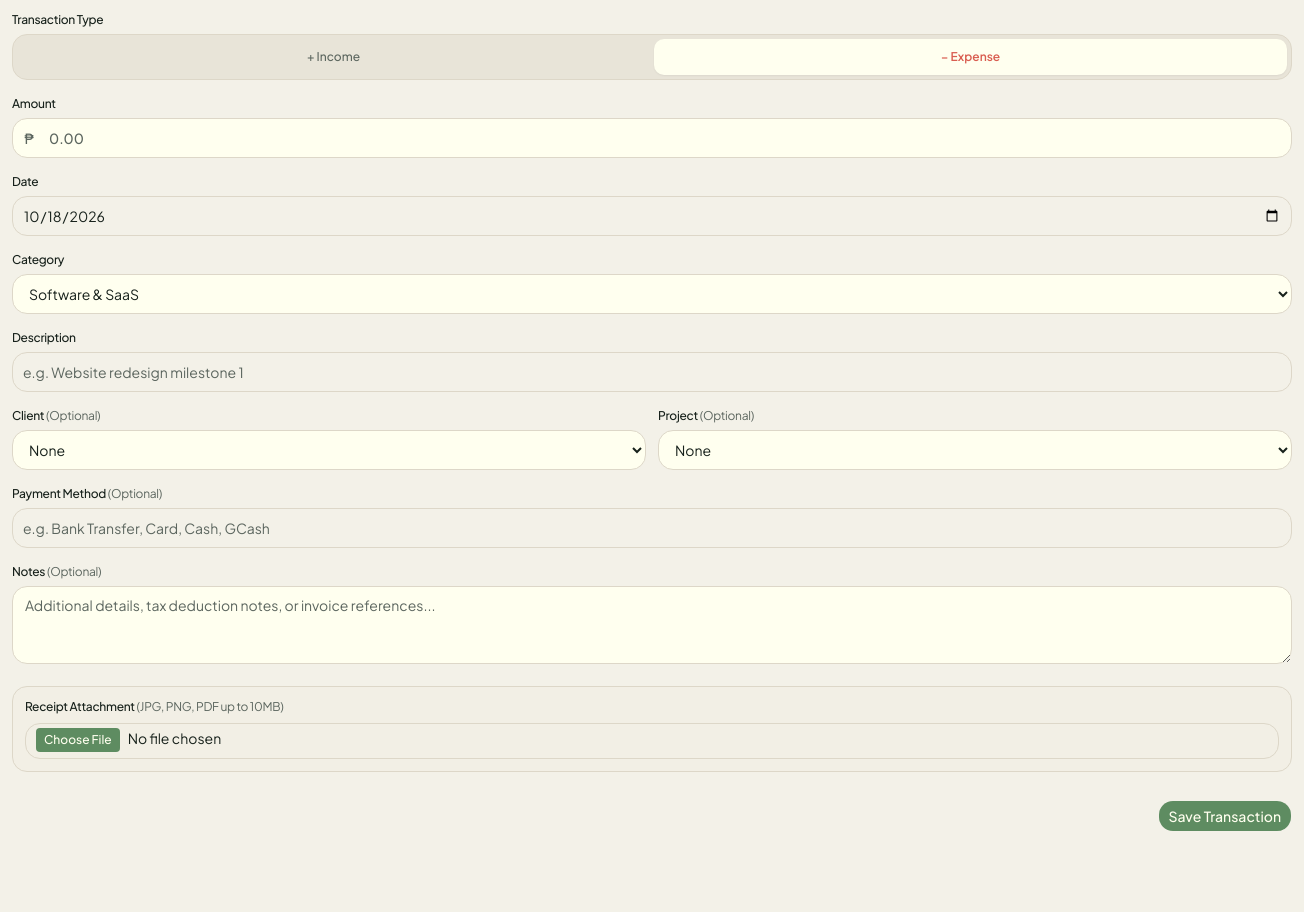
Test case: TransactionForm Component › shows validation error when submitting with 0 or missing amount
Click the button "Save Transaction" at (1225, 816), box [1158,800,1292,832]
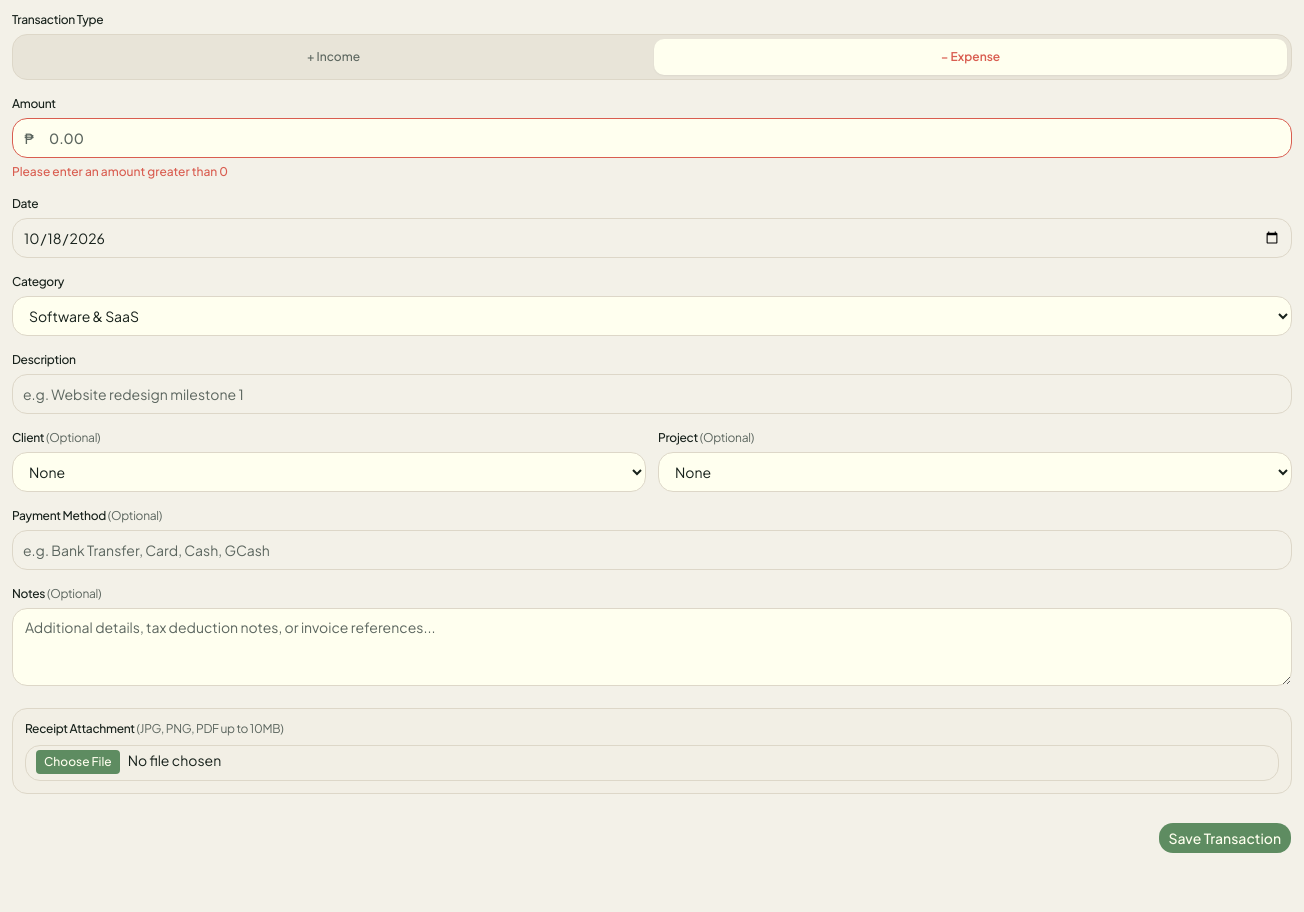
Check: the text "Please enter an amount greater than 0" is shown, box [12,164,228,179]
